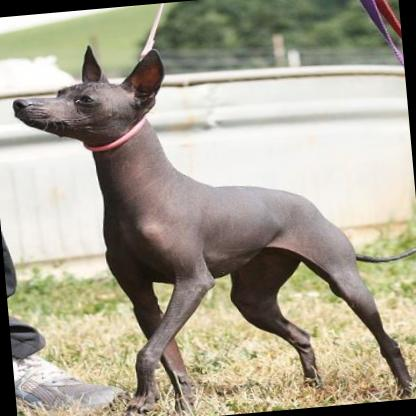Mexican_hairless: (7, 16, 416, 416)
